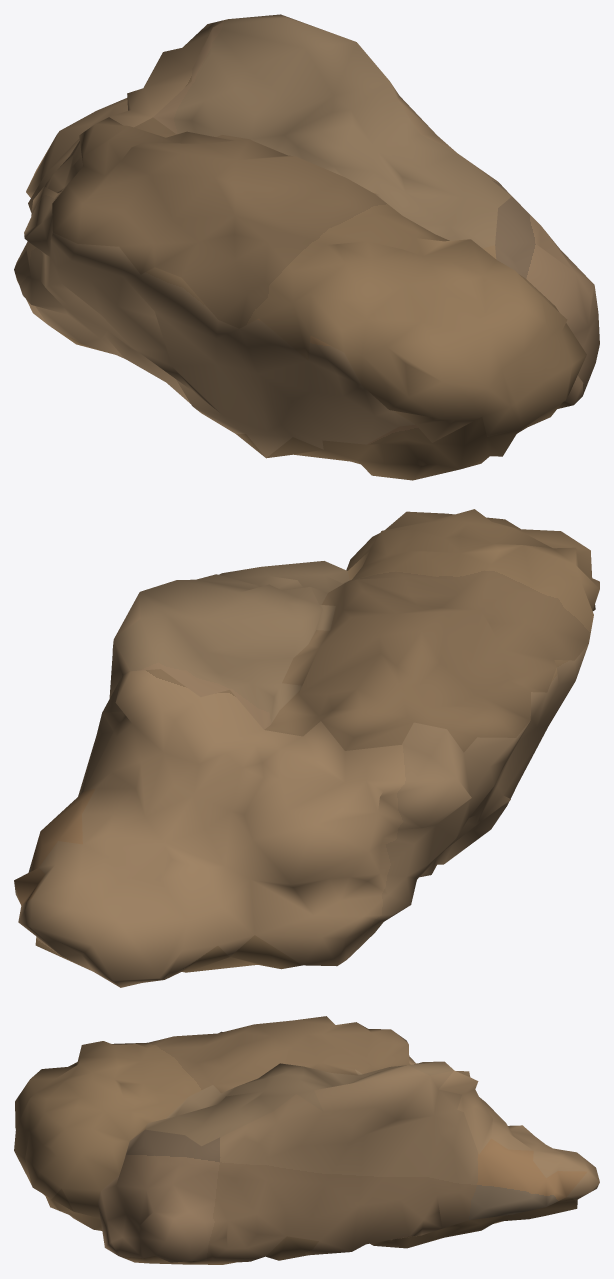
File: ph_rock_2.glb
The picture shows the model from 3 angles, top to bottom: view 1: azimuth 30°, elevation 25°; view 2: azimuth 150°, elevation 25°; view 3: azimuth 270°, elevation 25°; orthographic projection. The views are drawn at different scales.
Parts seen in each view (by area): view 1: ph_rock_2_lod1; view 2: ph_rock_2_lod1; view 3: ph_rock_2_lod1.
Boxes of the visible parts, bbox=[...] form: ph_rock_2_lod1: bbox=[14, 14, 599, 480]; ph_rock_2_lod1: bbox=[14, 509, 599, 987]; ph_rock_2_lod1: bbox=[14, 1016, 599, 1264].
Bounding box in the file's own units: 0.3403 × 0.2098 × 0.583.
Materials: 1 (1 with a texture image).
